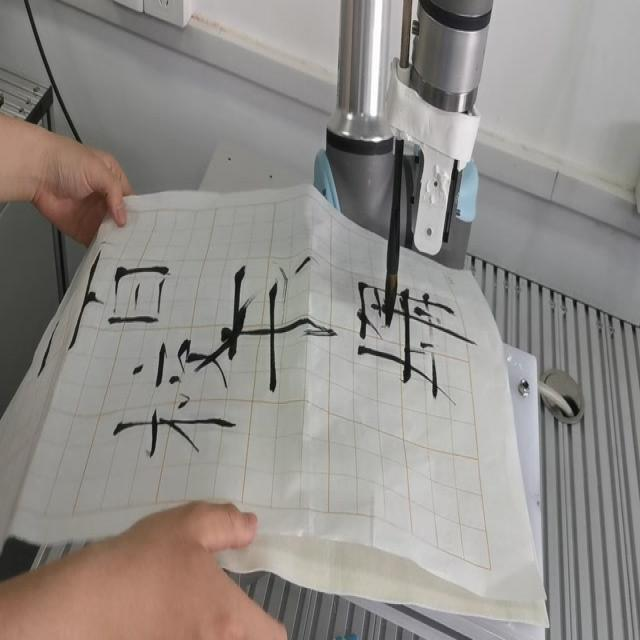head: (385, 277, 398, 329)
writing-brush: (385, 3, 413, 332)
